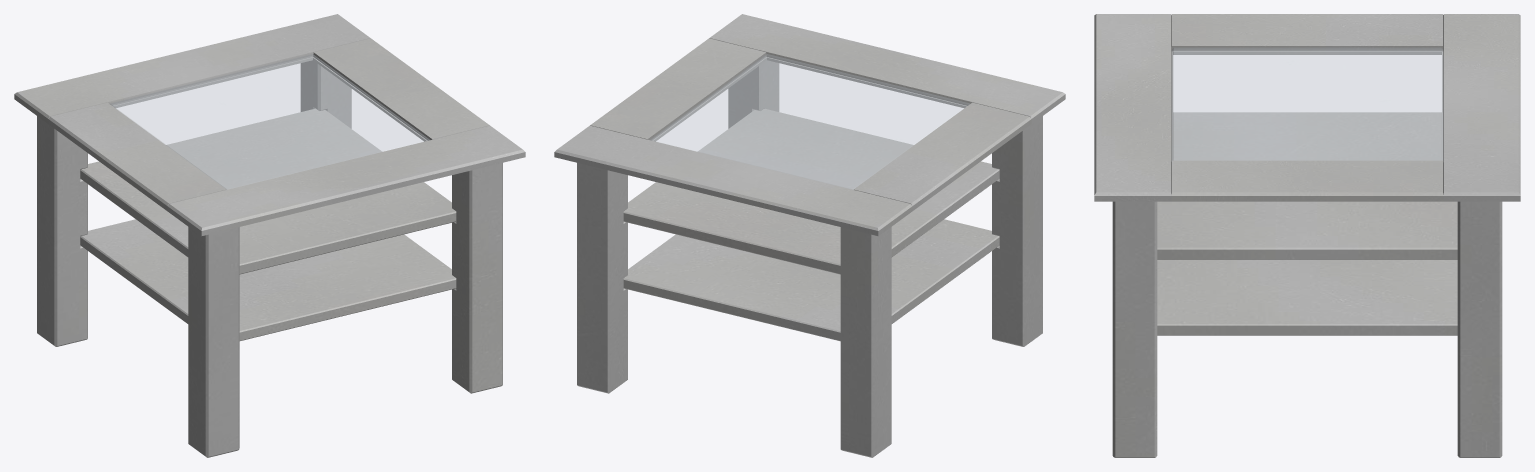
The model's file is GlassTable.glb.
The picture shows the model from 3 angles, left to right: view 1: azimuth 30°, elevation 25°; view 2: azimuth 150°, elevation 25°; view 3: azimuth 270°, elevation 25°; orthographic projection. The views are drawn at different scales.
Parts seen in each view (by area): view 1: Wood_Table_n3d, Wood_Table_Glass_n3d; view 2: Wood_Table_n3d, Wood_Table_Glass_n3d; view 3: Wood_Table_n3d, Wood_Table_Glass_n3d.
Part boxes in pixels (<box>): Wood_Table_n3d: <box>14,14,525,457</box>; Wood_Table_Glass_n3d: <box>110,54,429,189</box>; Wood_Table_n3d: <box>554,14,1065,457</box>; Wood_Table_Glass_n3d: <box>650,54,969,189</box>; Wood_Table_n3d: <box>1094,14,1520,457</box>; Wood_Table_Glass_n3d: <box>1172,48,1442,160</box>.
Size of the model in its own units: 0.0066 by 0.00466 by 0.0066.
Materials: 2 (2 with a texture image).
